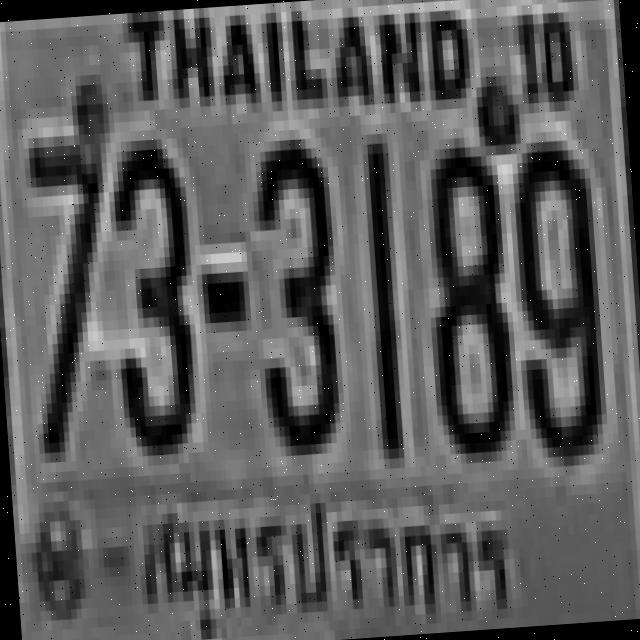1: (356, 133, 403, 450)
3: (242, 128, 342, 448), (99, 128, 198, 448)
7: (15, 104, 121, 453)
8: (418, 136, 511, 454)
9: (504, 128, 604, 458)
SamutPrakan: (123, 450, 518, 640)
